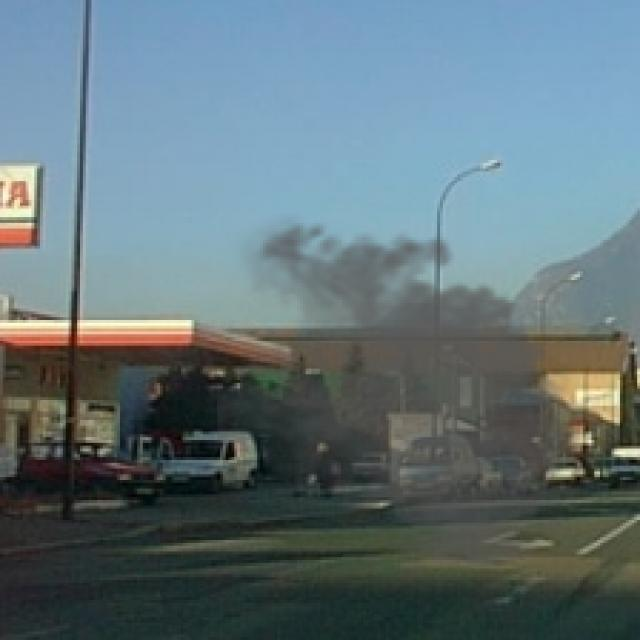smoke: (217, 212, 603, 577)
